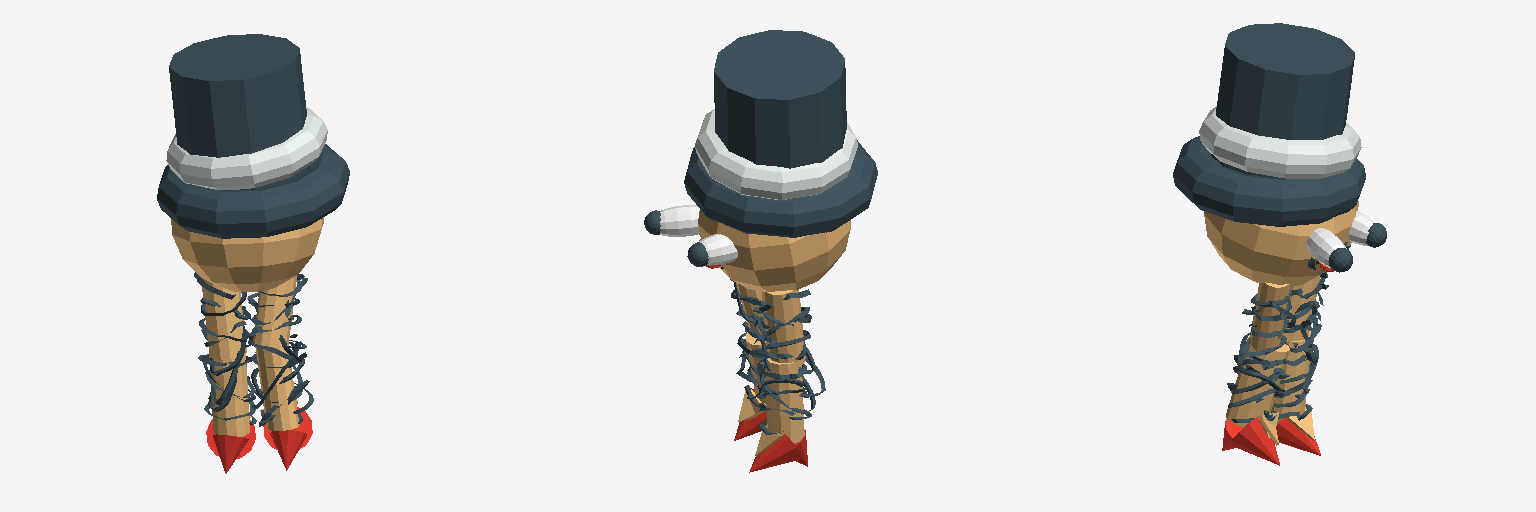
The picture shows the model from 3 angles: view 1: azimuth 30°, elevation 25°; view 2: azimuth 150°, elevation 25°; view 3: azimuth 270°, elevation 25°; orthographic projection.
Visible parts, largest first — view 1: group[number redacted], group[number redacted], group[number redacted], group[number redacted], group[number redacted], group[number redacted], group[number redacted], group[number redacted], group[number redacted], group[number redacted]; view 2: group[number redacted], group[number redacted], group[number redacted], group[number redacted], group[number redacted], group[number redacted], group[number redacted], group[number redacted], group[number redacted]; view 3: group[number redacted], group[number redacted], group[number redacted], group[number redacted], group[number redacted], group[number redacted], group[number redacted], group[number redacted], group[number redacted], group[number redacted], group[number redacted], group[number redacted].
Part boxes in pixels (x1,y1,x2,y2): group[number redacted]: (169, 34, 308, 190); group[number redacted]: (157, 144, 349, 238); group[number redacted]: (171, 217, 323, 291); group[number redacted]: (166, 107, 327, 189); group[number redacted]: (255, 342, 299, 430); group[number redacted]: (202, 278, 246, 359); group[number redacted]: (209, 354, 249, 436); group[number redacted]: (253, 275, 296, 346); group[number redacted]: (270, 430, 306, 470); group[number redacted]: (213, 434, 248, 473); group[number redacted]: (714, 30, 846, 168); group[number redacted]: (684, 140, 877, 237); group[number redacted]: (698, 210, 850, 291); group[number redacted]: (695, 109, 857, 199); group[number redacted]: (765, 358, 804, 443); group[number redacted]: (761, 290, 805, 367); group[number redacted]: (660, 205, 699, 236); group[number redacted]: (749, 434, 803, 472); group[number redacted]: (699, 234, 737, 265); group[number redacted]: (1211, 23, 1354, 178); group[number redacted]: (1173, 136, 1365, 226); group[number redacted]: (1204, 201, 1358, 285); group[number redacted]: (1199, 106, 1361, 178); group[number redacted]: (1226, 337, 1289, 427); group[number redacted]: (1250, 282, 1290, 351); group[number redacted]: (1228, 414, 1279, 465); group[number redacted]: (1271, 331, 1310, 423); group[number redacted]: (1306, 228, 1346, 267); group[number redacted]: (1276, 417, 1320, 455); group[number redacted]: (1282, 275, 1320, 340); group[number redacted]: (1349, 211, 1375, 245).
Size of the model in its own units: 0.3354 by 0.7202 by 0.3395.